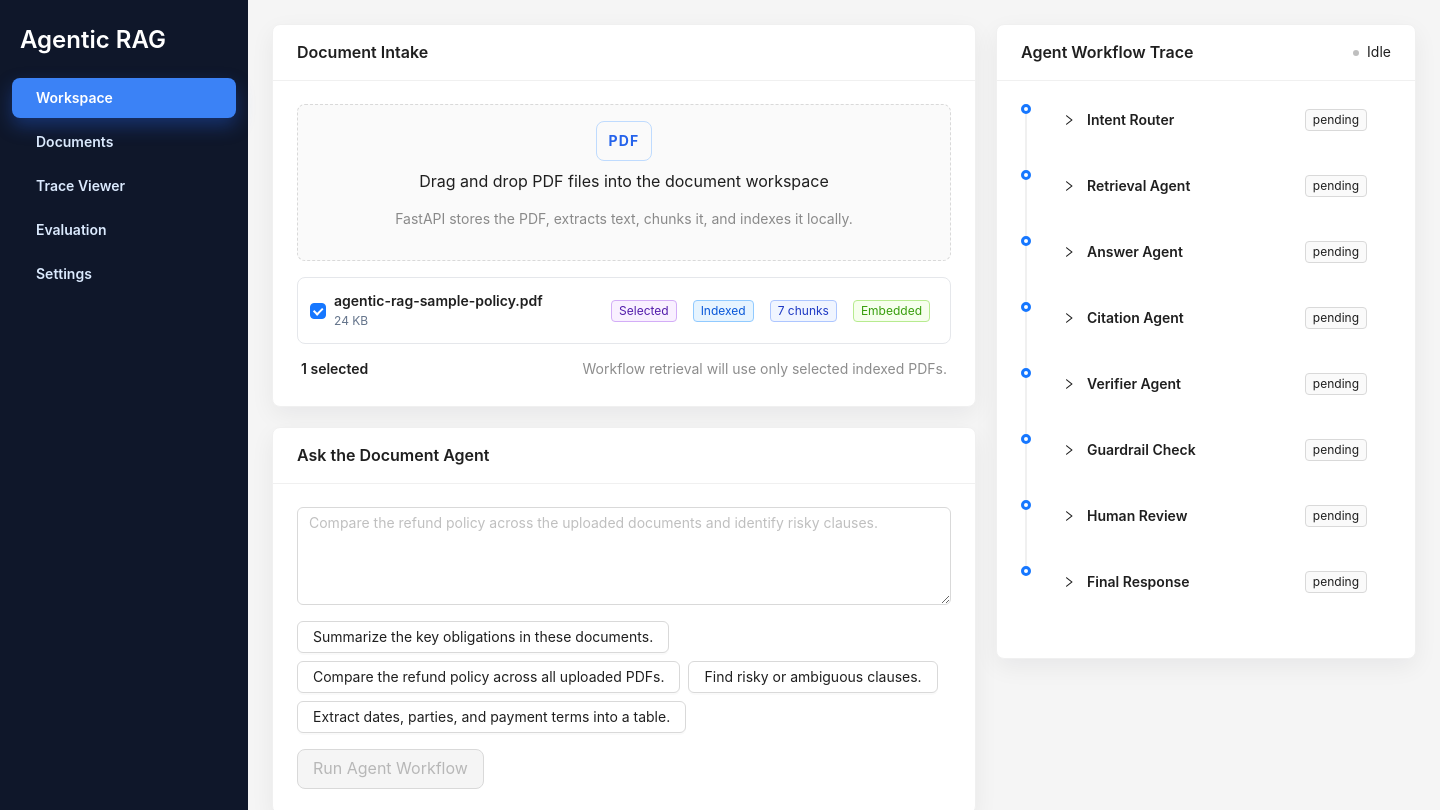
Test: trace viewer reflects the current workflow state
The image size is (1440, 810).
expect the text "agentic-rag-sample-policy.pdf" is shown: met, box 334,292 -> 543,309
Replace the text in the text box with placeholder "Compare the refund policy" with "Find risky refund clauses": [624, 556] box 297,507 -> 951,605
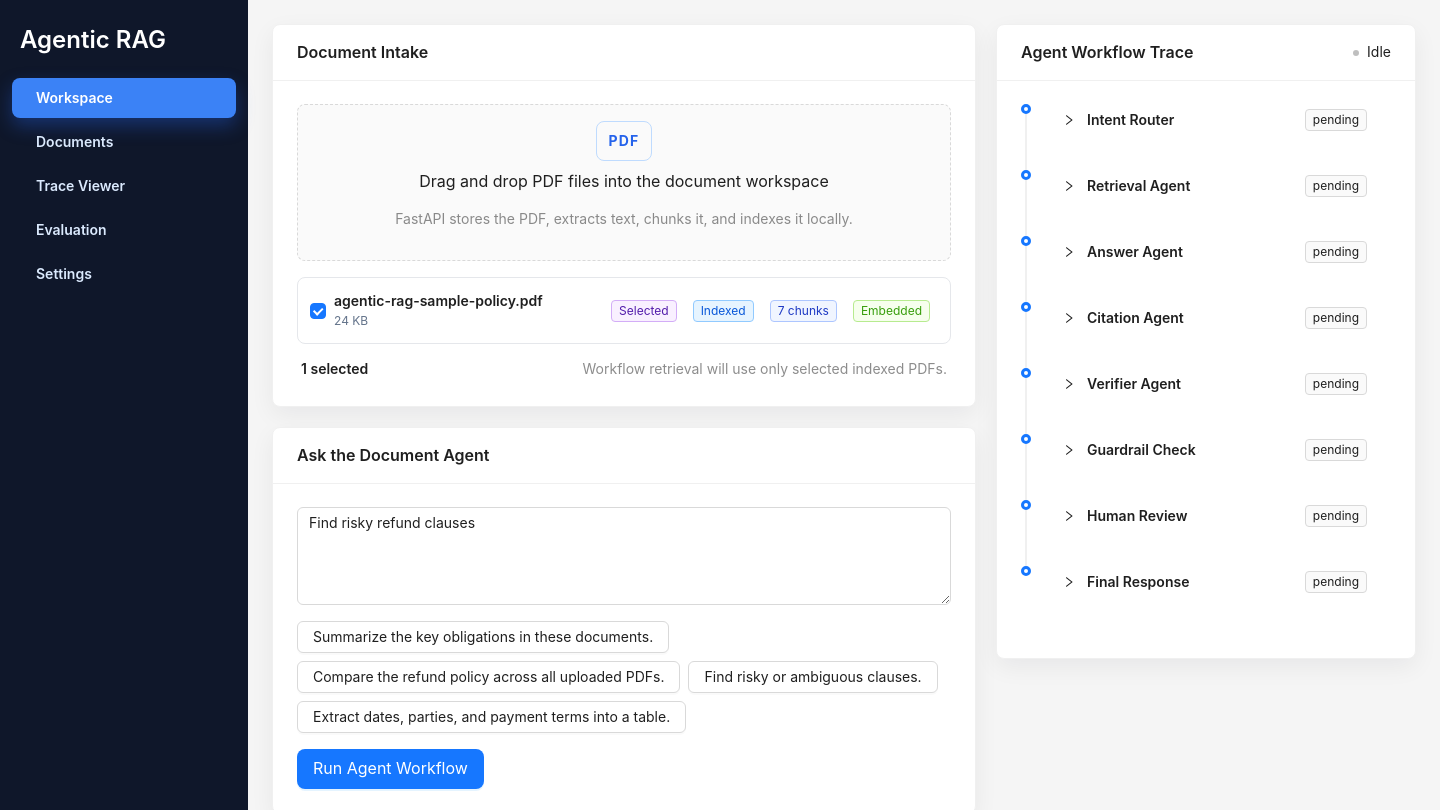
Click the button "Run Agent Workflow": [390, 769] box 297,749 -> 484,789
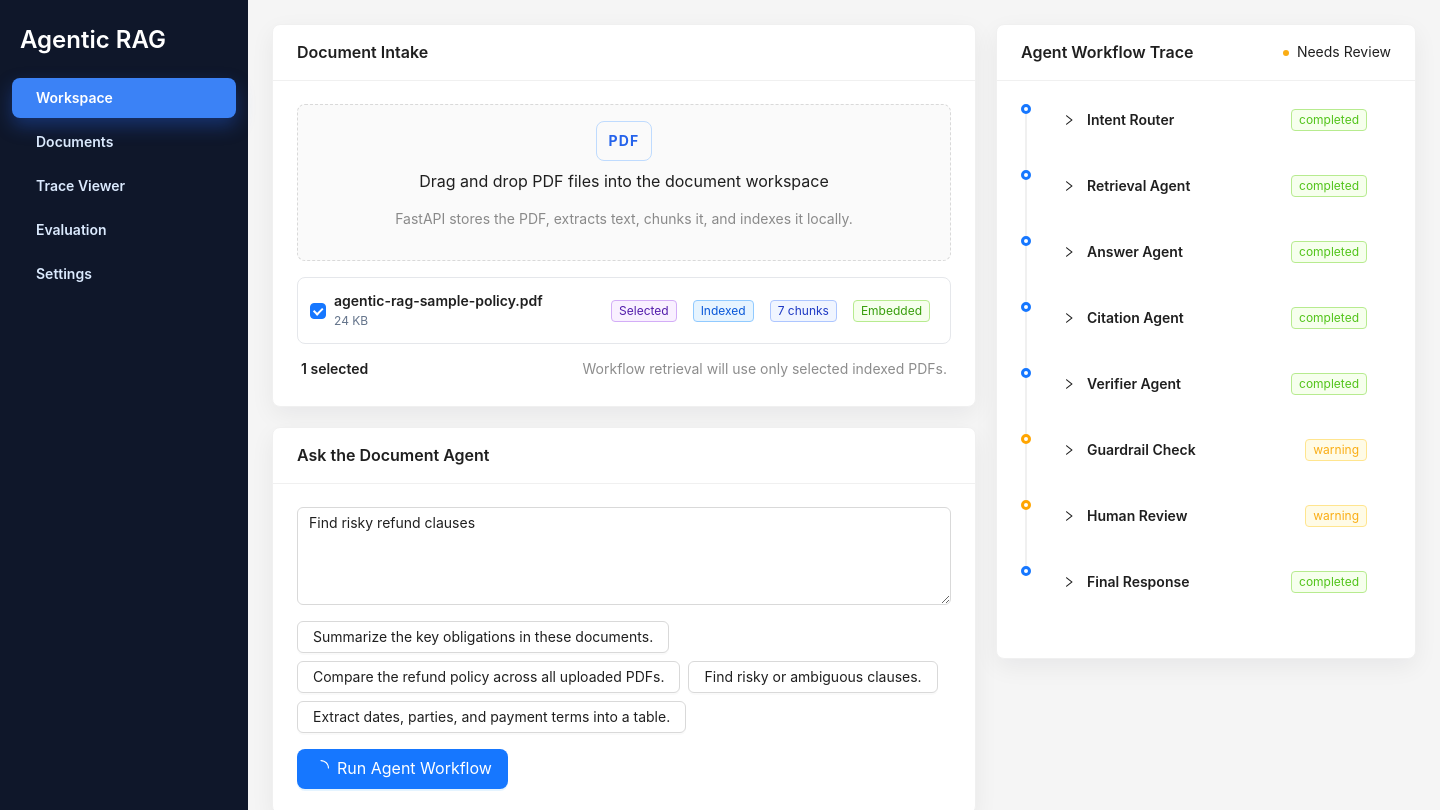
Click the menu item "Trace Viewer": [81, 186] box 36,177 -> 125,194
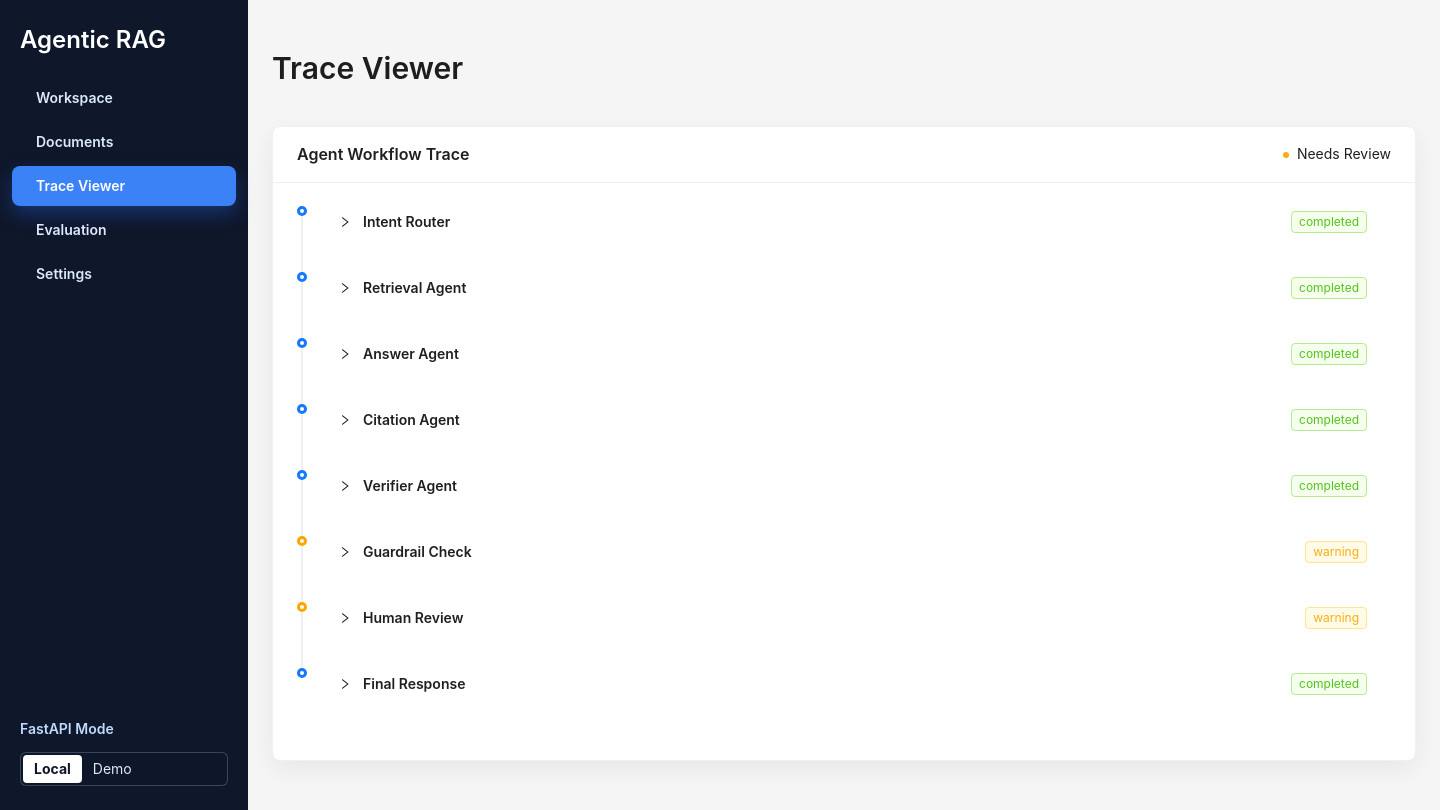
expect the text "Needs Review" is shown: met, box 1297,145 -> 1391,162
expect the heading "Trace Viewer" is shown: met, box 272,50 -> 463,86
